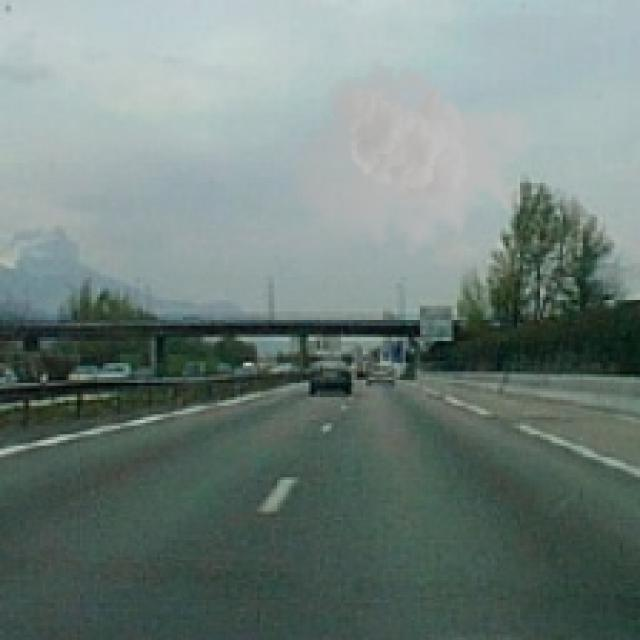smoke: (294, 57, 537, 272)
